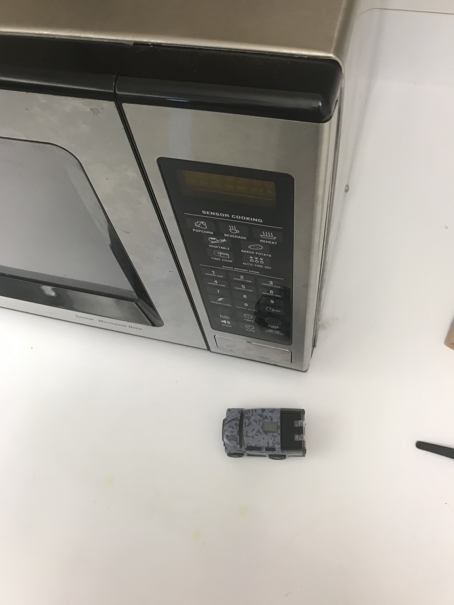MXT: (220, 405, 310, 459)
